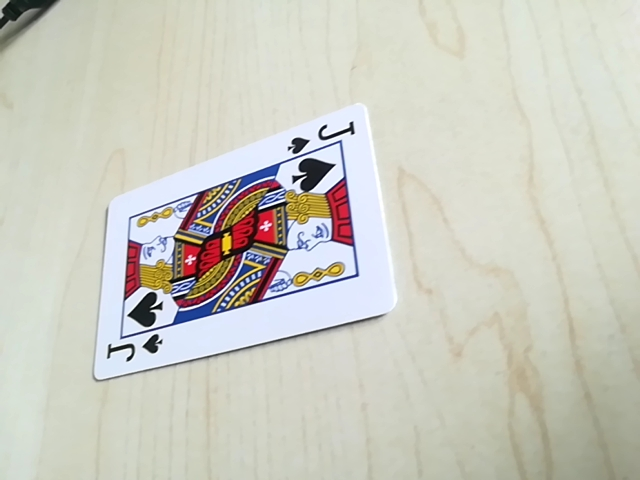ht j: (103, 327, 168, 373), (284, 119, 358, 156)
